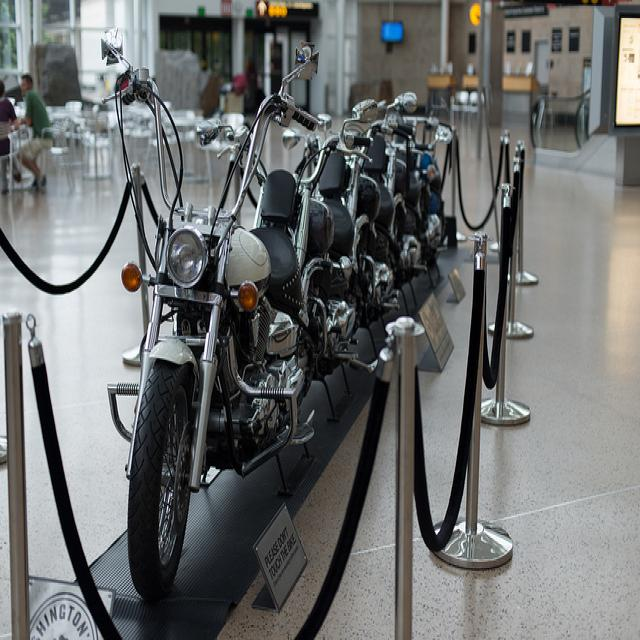motor: (120, 72, 309, 608), (199, 99, 395, 386), (366, 90, 426, 290), (392, 123, 444, 291), (327, 132, 390, 234), (416, 121, 453, 239), (356, 156, 383, 218)
